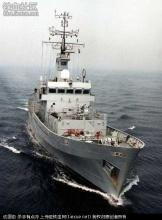warship: (24, 9, 146, 199)
